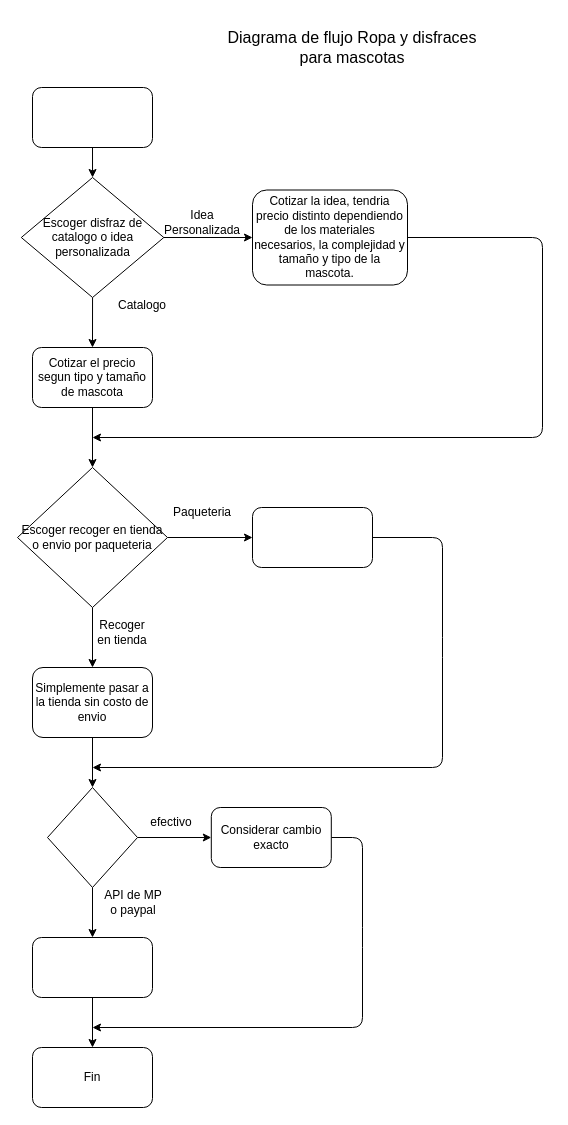
Image size: 568x1125. Some labels were removed from this diagram. The shapes that lost their labels are listed below. From the top down, each one's centre as x and y in pixels, then its label:
(x=92, y=117): Inicio
(x=312, y=537): Calcular costos de envio
(x=92, y=837): Pago en efectivo o tarjeta
(x=92, y=967): Crear cuenta en mercado pago considrando comision
